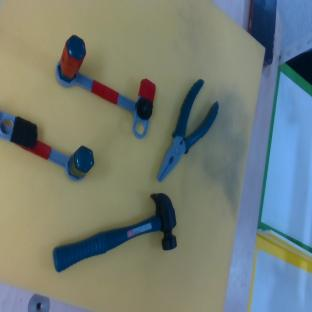non_pass: (0, 109, 99, 185)
pass: (44, 30, 172, 141)
